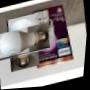Bulb: (0, 17, 47, 67)
